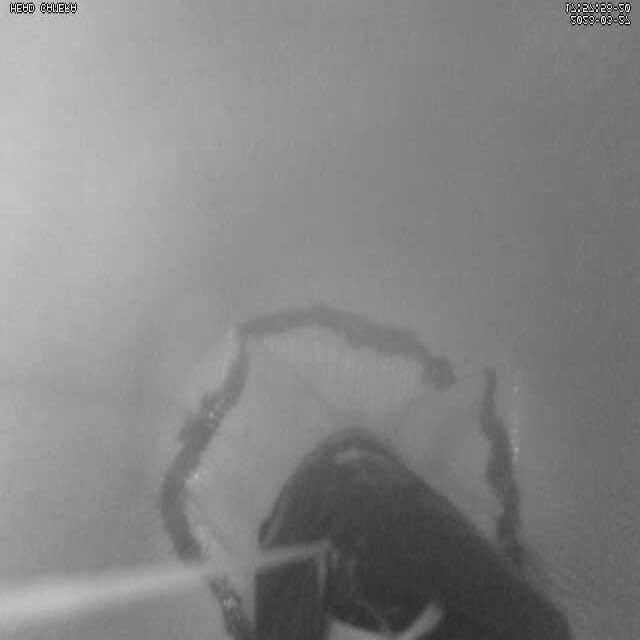red-circle: (159, 306, 526, 639)
